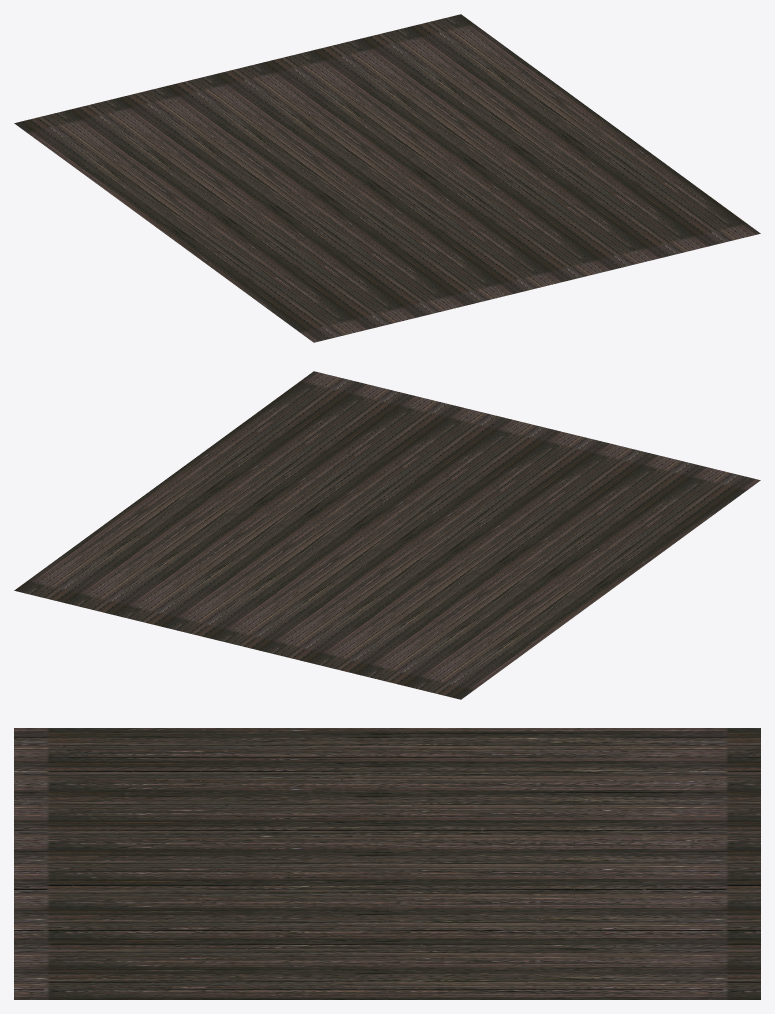
File: larger floor.FBX
The picture shows the model from 3 angles, top to bottom: view 1: azimuth 30°, elevation 25°; view 2: azimuth 150°, elevation 25°; view 3: azimuth 270°, elevation 25°; orthographic projection. The views are drawn at different scales.
Visible parts, largest first — view 1: Plane001; view 2: Plane001; view 3: Plane001.
Part boxes in pixels (x1=…): Plane001: x1=14, y1=14, x2=760, y2=342; Plane001: x1=14, y1=371, x2=760, y2=699; Plane001: x1=14, y1=728, x2=760, y2=999.
Bounding box in the file's own units: 32.24 × 2.29e-15 × 37.46.
